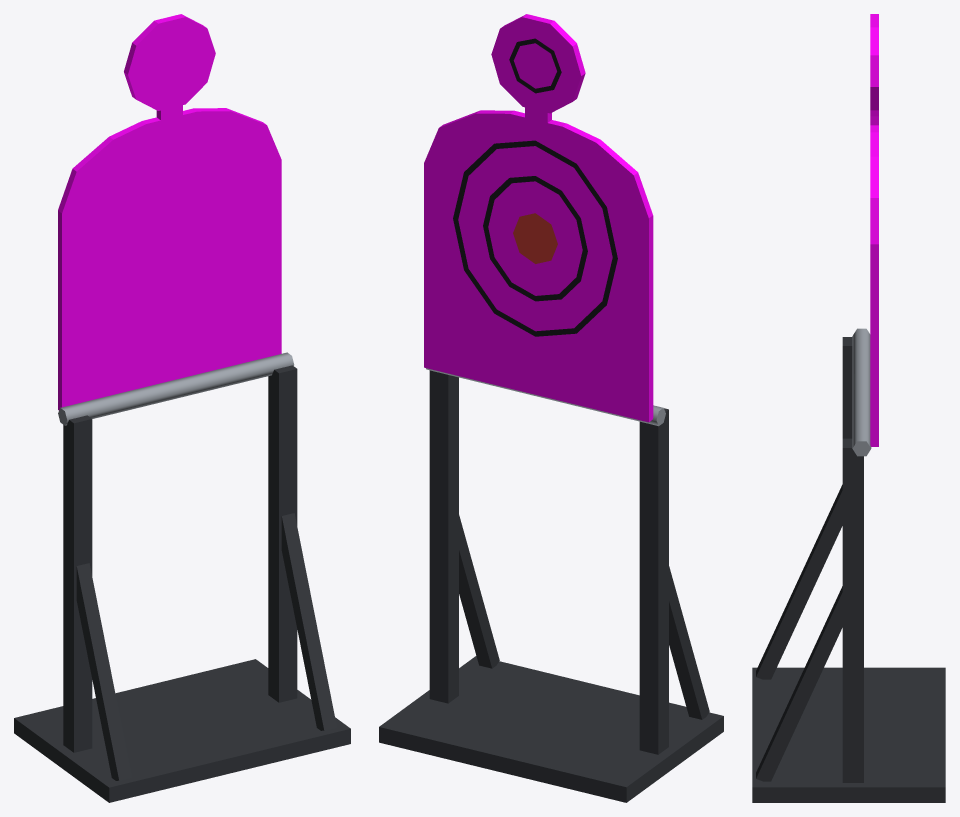
The model's file is prop_target_man.glb.
3 renders of one model, left to right at view 1: azimuth 30°, elevation 25°; view 2: azimuth 150°, elevation 25°; view 3: azimuth 270°, elevation 25°, orthographic. The views are drawn at different scales.
Visible parts, largest first — view 1: prop_target_man__target, prop_target_man__mesh; view 2: prop_target_man__target, prop_target_man__mesh; view 3: prop_target_man__mesh, prop_target_man__target.
Part boxes in pixels (<box>): prop_target_man__target: <box>58,14,281,410</box>; prop_target_man__mesh: <box>14,352,350,802</box>; prop_target_man__target: <box>424,14,653,422</box>; prop_target_man__mesh: <box>379,368,723,802</box>; prop_target_man__mesh: <box>752,328,945,802</box>; prop_target_man__target: <box>870,14,878,446</box>.
Size of the model in its own units: 0.66 by 1.85 by 0.45.
1 material, 1 textured.
